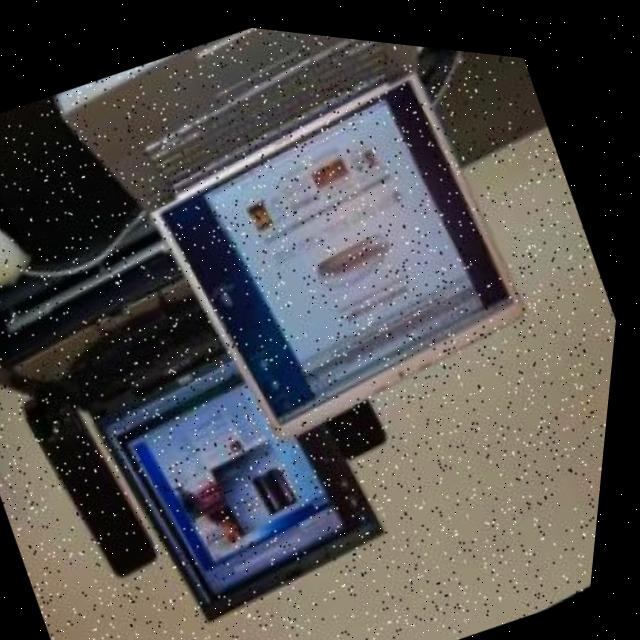mause: (0, 161, 51, 341)
